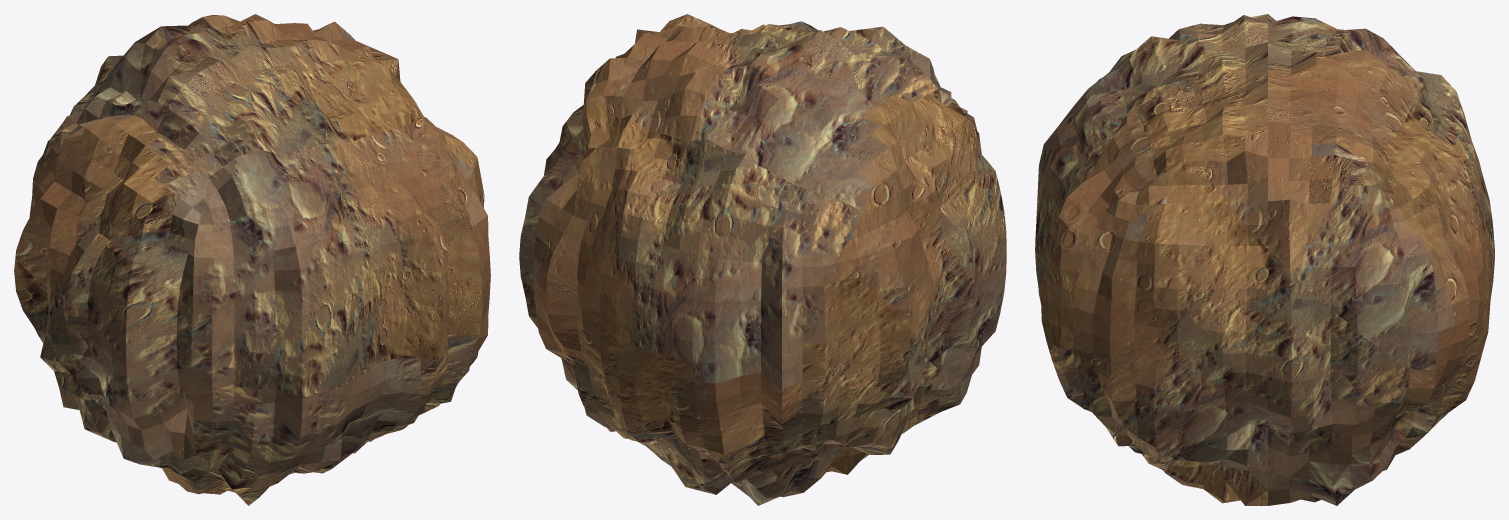
Rendered from asteroid126.obj.
3 views of the same model, side by side, from view 1: azimuth 30°, elevation 25°; view 2: azimuth 150°, elevation 25°; view 3: azimuth 270°, elevation 25° (orthographic).
Visible parts, largest first — view 1: Cube_Cube.002; view 2: Cube_Cube.002; view 3: Cube_Cube.002.
Boxes of the visible parts, x1,y1,x2,y2 form: Cube_Cube.002: (14, 14, 490, 505); Cube_Cube.002: (519, 14, 1006, 505); Cube_Cube.002: (1035, 14, 1494, 505).
Size of the model in its own units: 1.77 by 1.87 by 1.75.
